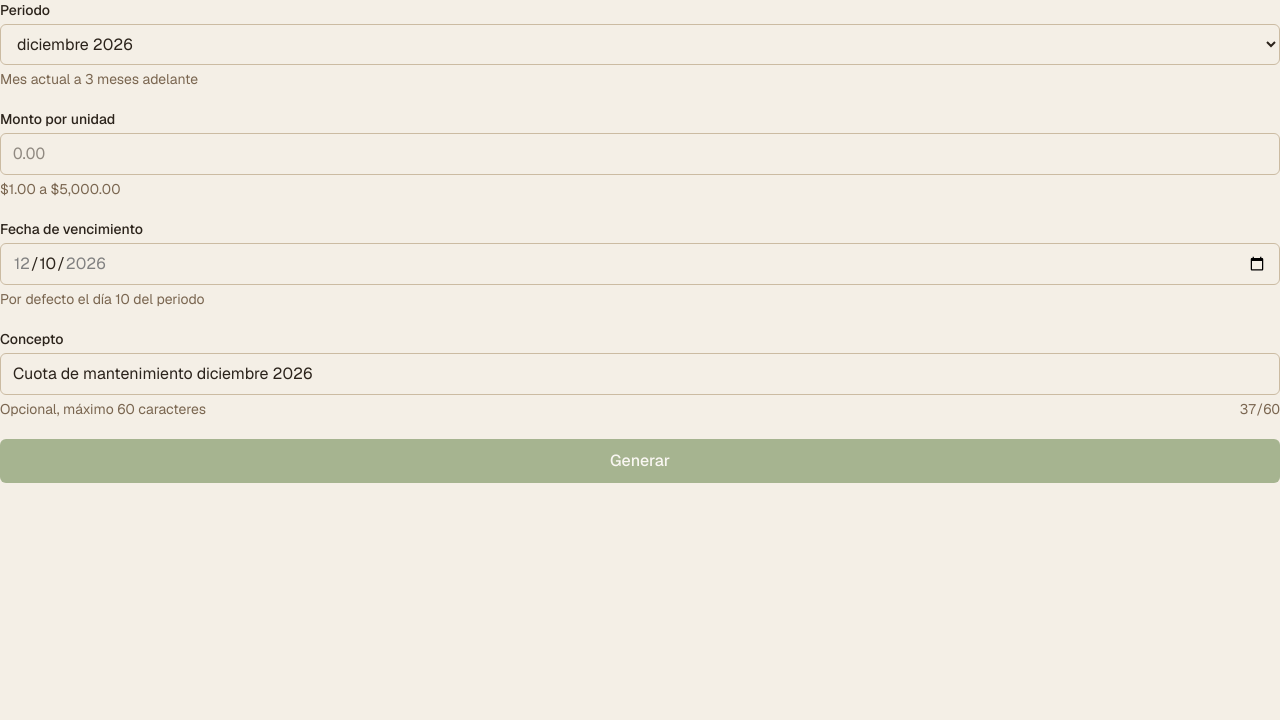
Test case: H3. Generación mensual de cuotas › AC2: antes de generar pide confirmación con el monto, las unidades sin cuota y el periodo
In the number field labelled "Monto por unidad": {"x": 640, "y": 154} [0,133,1279,175], type "35.5"
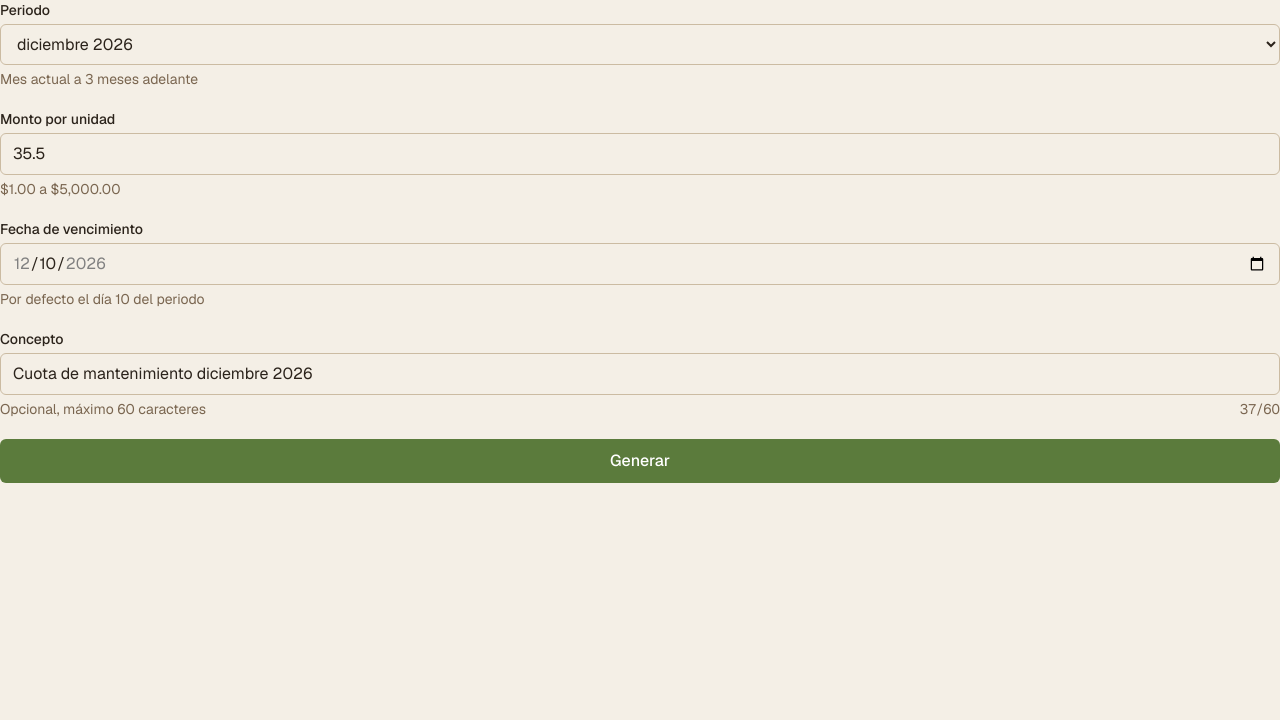
Click the button "Generar": {"x": 640, "y": 461} [0,439,1279,483]
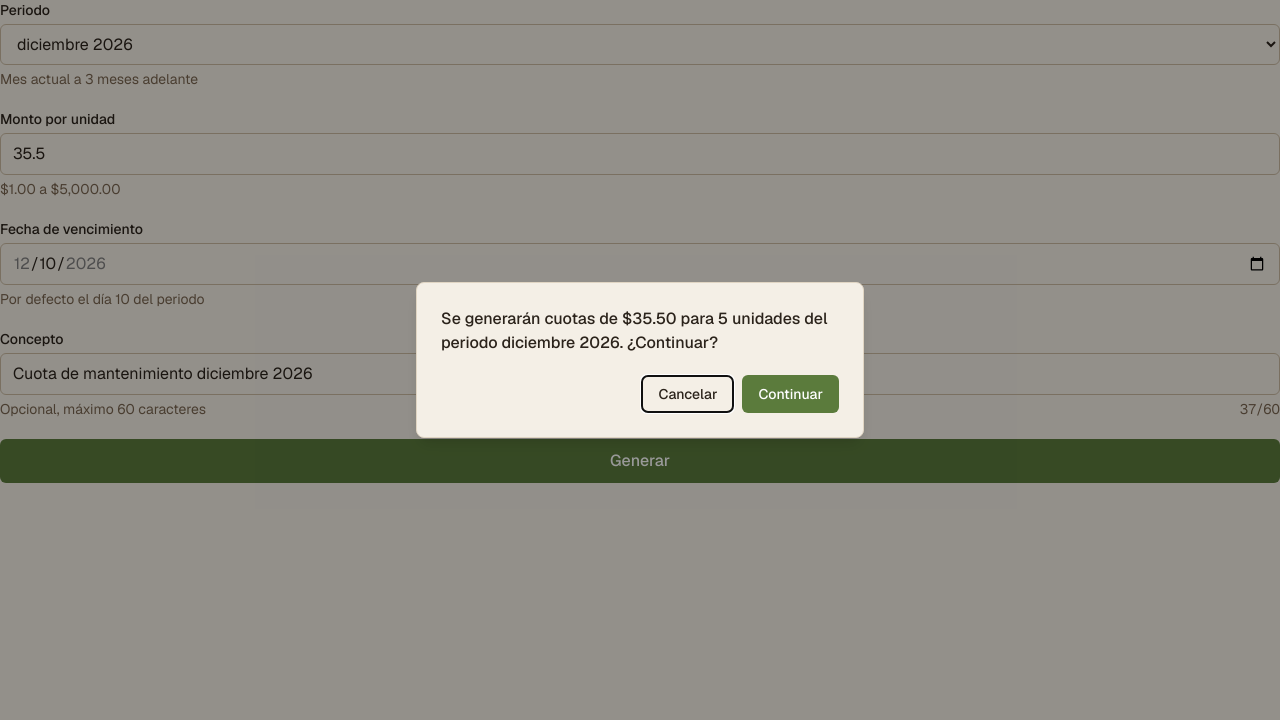
Click the button "Cancelar": {"x": 688, "y": 394} [642,375,734,413]
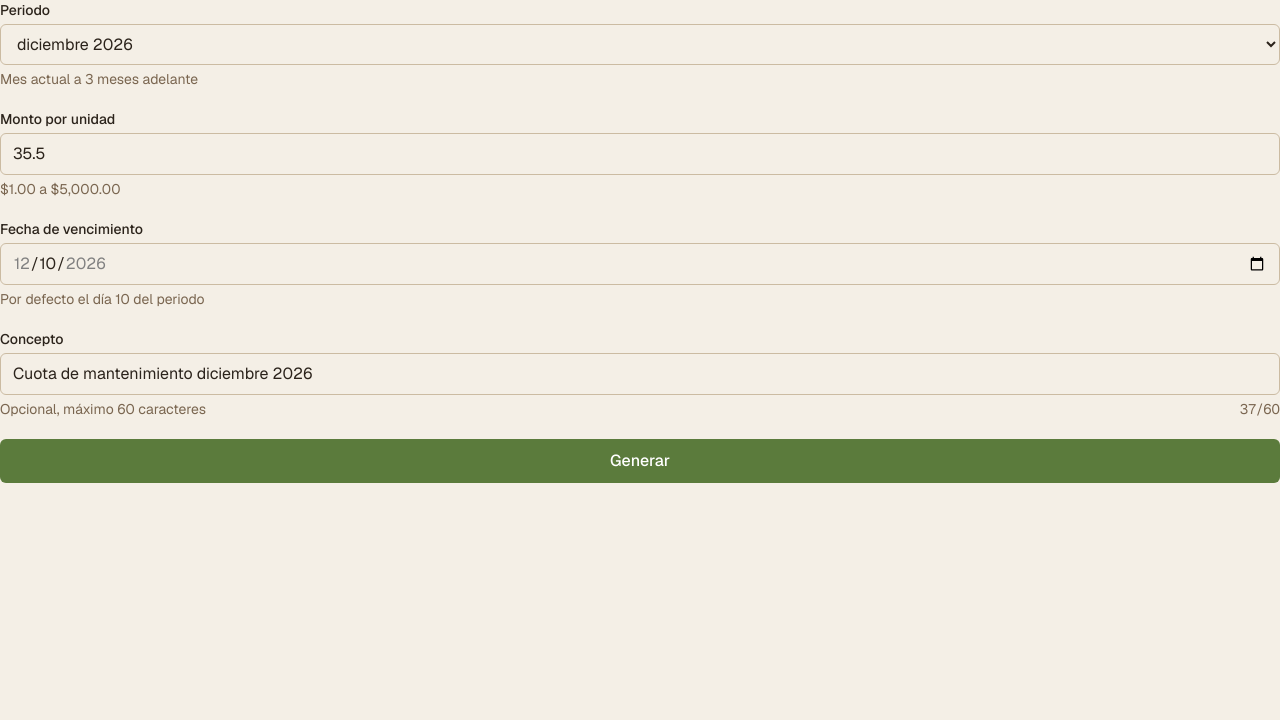
Result: the dialog is gone
